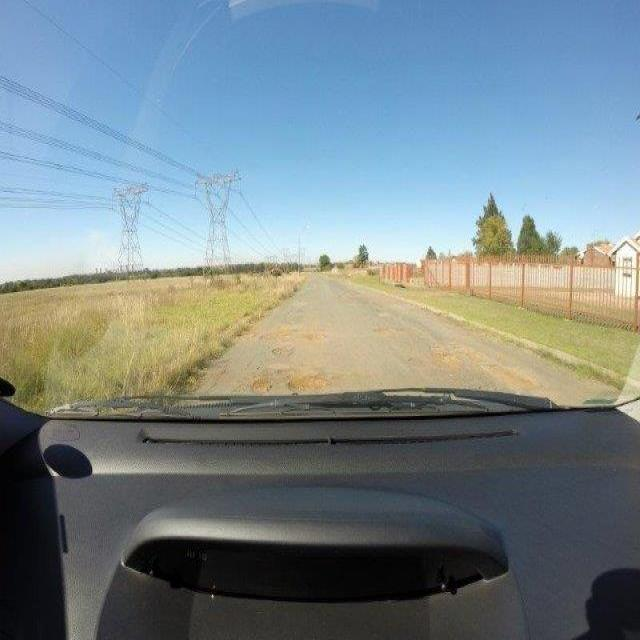lubang: (486, 363, 538, 392), (260, 328, 330, 346), (287, 368, 335, 392), (370, 322, 406, 337), (247, 374, 273, 394), (429, 351, 462, 366), (268, 342, 290, 362)
